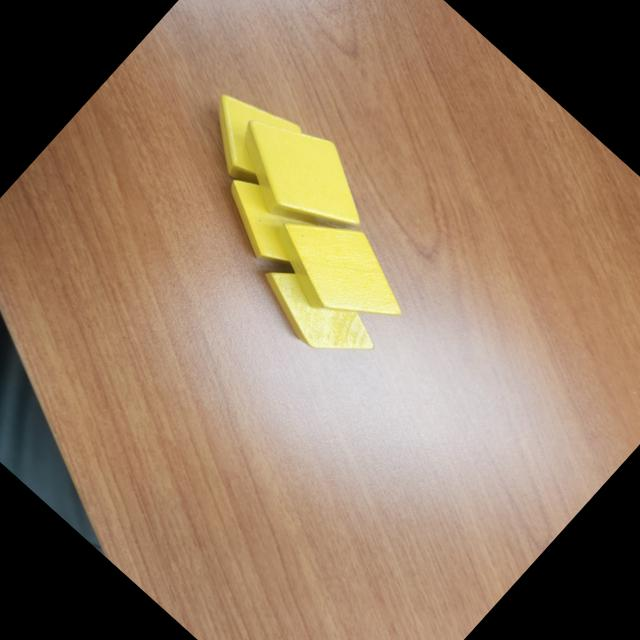yellow: (210, 90, 392, 268), (250, 185, 428, 358), (182, 70, 336, 220), (201, 160, 344, 298), (244, 244, 385, 380)
